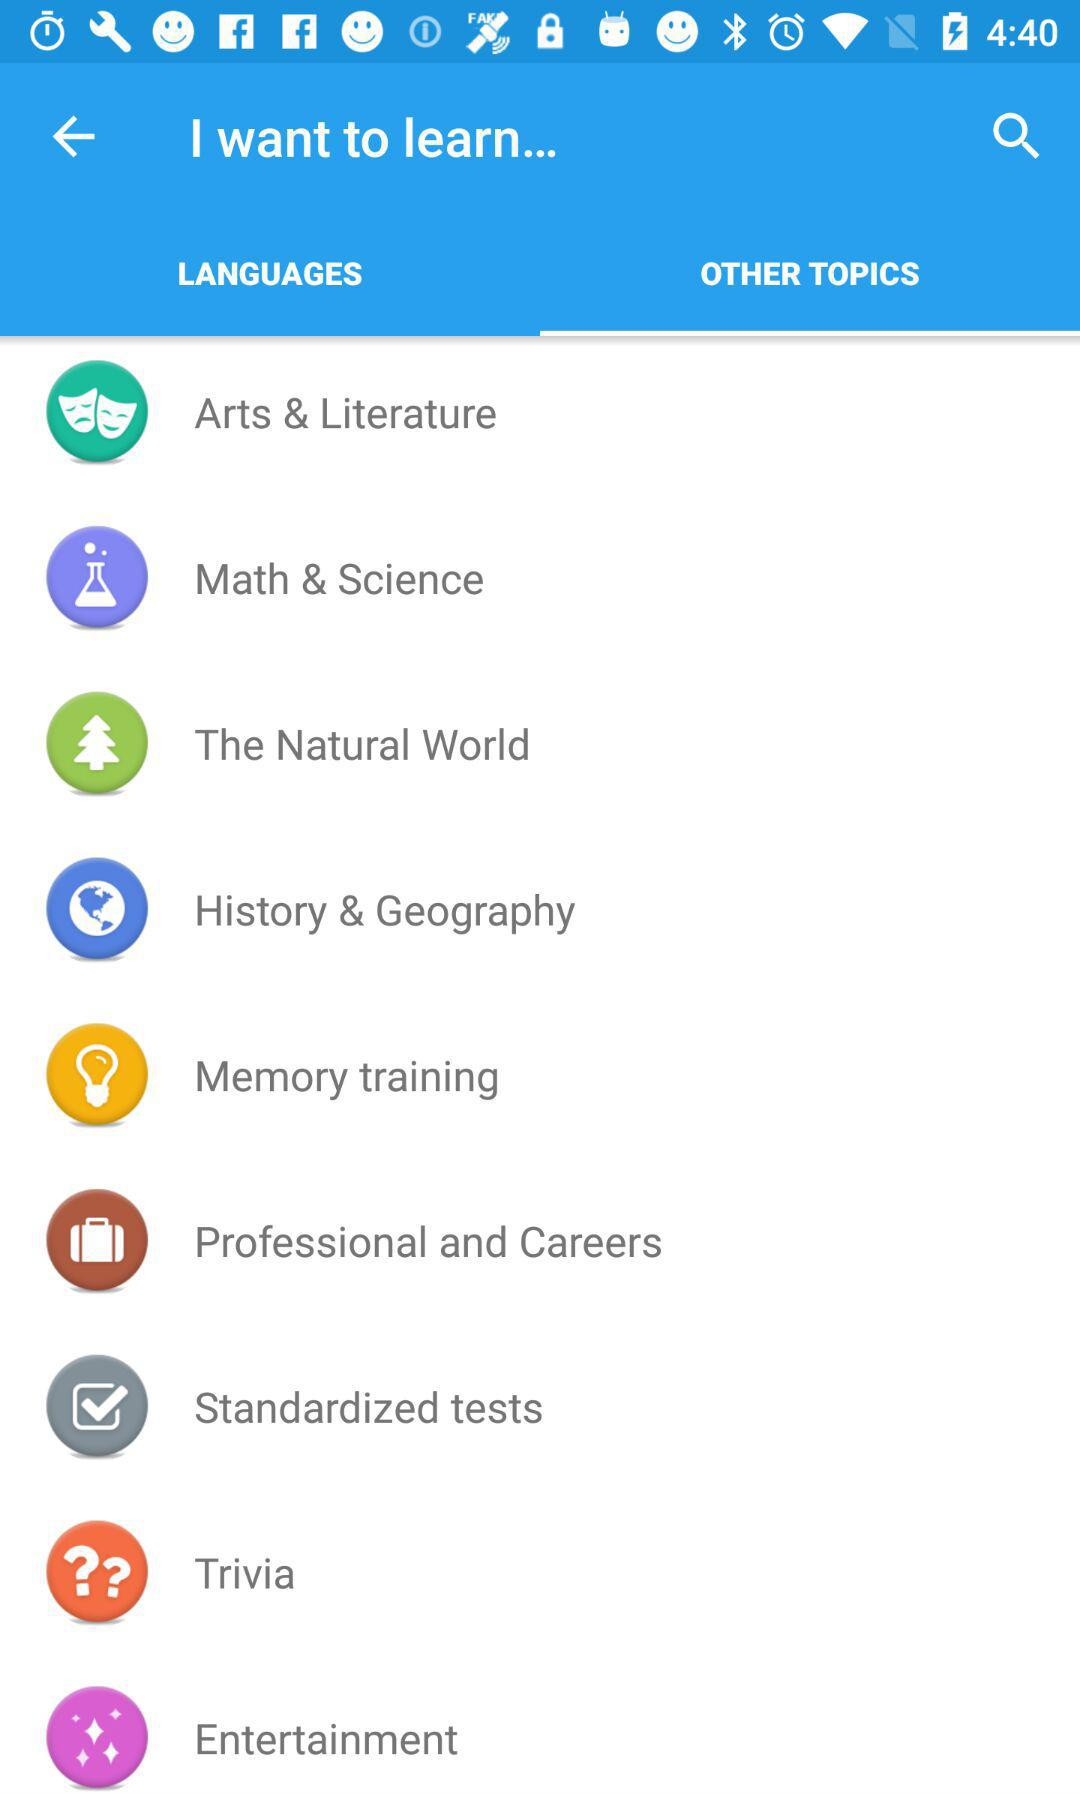Icon: (46, 1187, 150, 1294), (46, 1518, 150, 1625), (46, 1354, 150, 1460), (992, 111, 1040, 161), (53, 117, 97, 160)
Image: (46, 1685, 150, 1791), (46, 1023, 150, 1129), (46, 857, 150, 964), (46, 691, 150, 796), (46, 525, 150, 630), (46, 360, 150, 465)
Text: (197, 1224, 662, 1260), (190, 117, 557, 161), (197, 893, 575, 935), (197, 1058, 498, 1102), (196, 1390, 544, 1425), (195, 727, 530, 762), (193, 397, 498, 432), (197, 561, 486, 597), (197, 1724, 459, 1757), (701, 261, 920, 288), (179, 261, 364, 288), (195, 1557, 296, 1592)
UpperTaskBar: (1, 1, 1080, 64)
